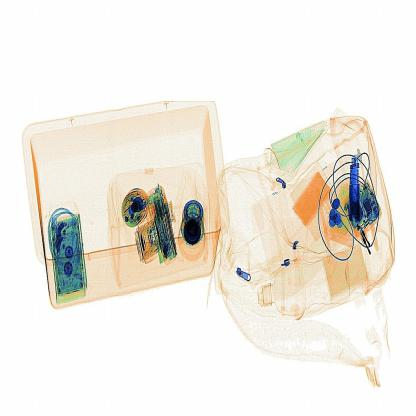pliers: (338, 145, 365, 230)
